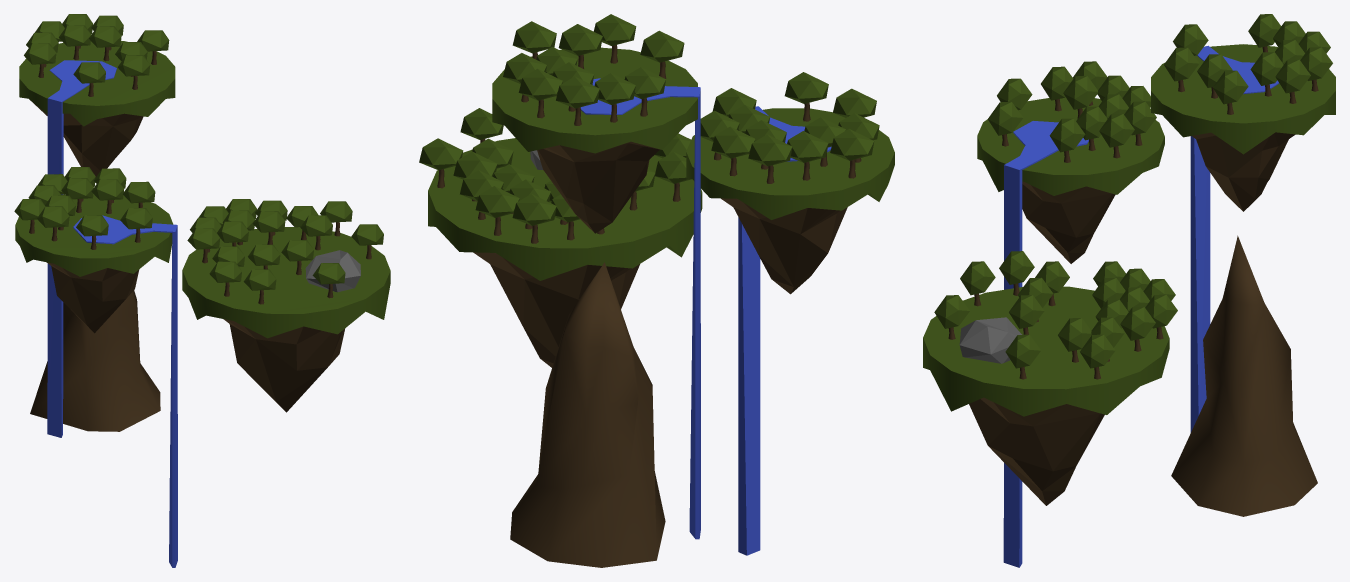
Rendered from floating islands.FBX.
The picture shows the model from 3 angles, left to right: view 1: azimuth 30°, elevation 25°; view 2: azimuth 150°, elevation 25°; view 3: azimuth 270°, elevation 25°; orthographic projection. The views are drawn at different scales.
Parts seen in each view (by area): view 1: Grass02, Rock, Grass, Grass01, ground02, Water01, Water, ground01, ground, GeoSphere01, Tree round24, Tree round25 (+23 smaller); view 2: Rock, Grass02, Grass, Grass01, Water, ground, ground02, ground01, Water01, Tree round12, Tree round32, Tree round14 (+27 smaller); view 3: Rock, Grass02, Grass, Grass01, ground02, Water01, Water, ground01, ground, GeoSphere01, Tree round19, Tree round21 (+30 smaller).
Boxes of the visible parts, left/top/right/bottom form: Grass02: left=182, top=227, right=390, bottom=338; Rock: left=30, top=290, right=160, bottom=431; Grass: left=19, top=41, right=175, bottom=126; Grass01: left=15, top=194, right=173, bottom=276; ground02: left=223, top=319, right=345, bottom=412; Water01: left=47, top=60, right=116, bottom=437; Water: left=73, top=215, right=177, bottom=567; ground01: left=47, top=262, right=139, bottom=333; ground: left=30, top=100, right=143, bottom=177; GeoSphere01: left=305, top=250, right=360, bottom=292; Tree round24: left=209, top=261, right=241, bottom=282; Tree round25: left=248, top=244, right=280, bottom=265; Rock: left=510, top=262, right=665, bottom=567; Grass02: left=428, top=138, right=702, bottom=280; Grass: left=492, top=47, right=697, bottom=153; Grass01: left=686, top=108, right=894, bottom=219; Water: left=738, top=106, right=831, bottom=555; ground: left=537, top=141, right=659, bottom=233; ground02: left=473, top=252, right=639, bottom=367; ground01: left=721, top=198, right=847, bottom=294; Water01: left=580, top=78, right=700, bottom=539; Tree round12: left=640, top=30, right=684, bottom=62; Tree round32: left=830, top=129, right=874, bottom=160; Tree round14: left=558, top=24, right=602, bottom=55; Rock: left=1171, top=235, right=1317, bottom=516; Grass02: left=923, top=286, right=1169, bottom=416; Grass: left=1151, top=44, right=1335, bottom=154; Grass01: left=977, top=97, right=1164, bottom=195; ground02: left=969, top=397, right=1104, bottom=505; Water01: left=1190, top=45, right=1279, bottom=432; Water: left=1003, top=121, right=1088, bottom=567; ground01: left=1022, top=181, right=1115, bottom=263; ground: left=1192, top=132, right=1295, bottom=211; GeoSphere01: left=959, top=317, right=1021, bottom=363; Tree round19: left=1275, top=59, right=1310, bottom=93; Tree round21: left=1213, top=70, right=1248, bottom=104.
Bounding box in the file's own units: 451 × 570 × 400.
